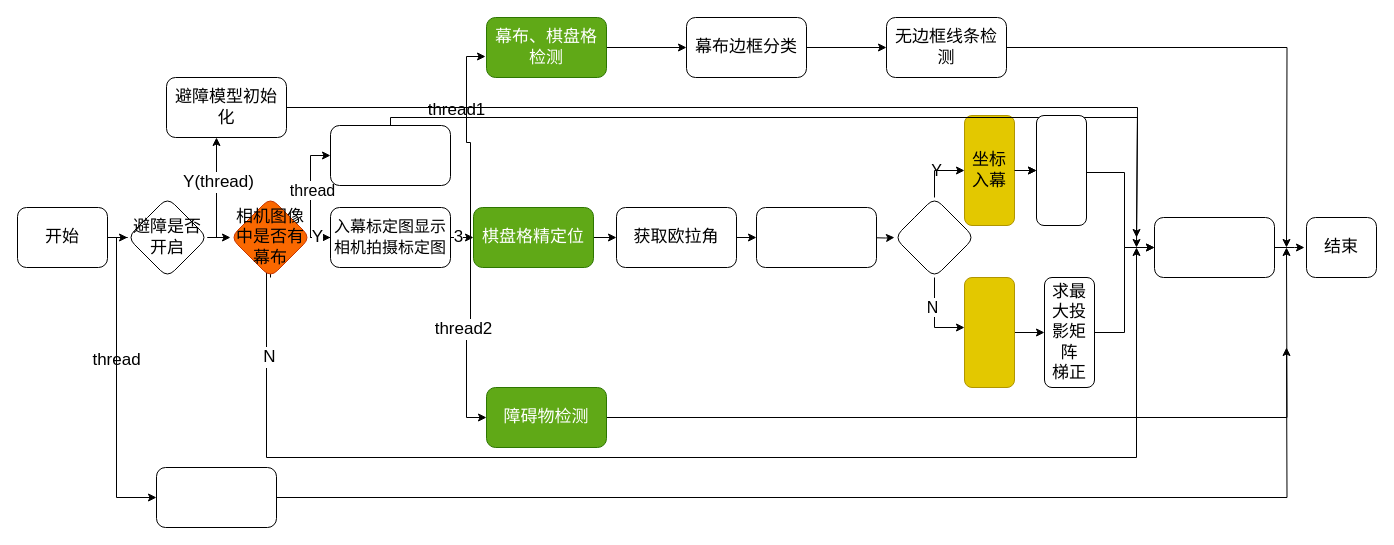
Some shapes in this 1394 by 545 pixel diagram are drawn without their labels. Here are the shapes that lost their labels. From the top down, the centre of each, then its label:
At (x=390, y=155): "入幕微调模型初始化".
At (x=1061, y=170): "微调入幕".
At (x=816, y=237): "透视矩阵计算 投影坐标转换".
At (x=934, y=237): "开启入幕 幕布坐标正常".
At (x=1214, y=247): "入幕避障等模型释放".
At (x=989, y=332): "开启避障？坐标透视变换".
At (x=216, y=497): "入幕模型初始化".
